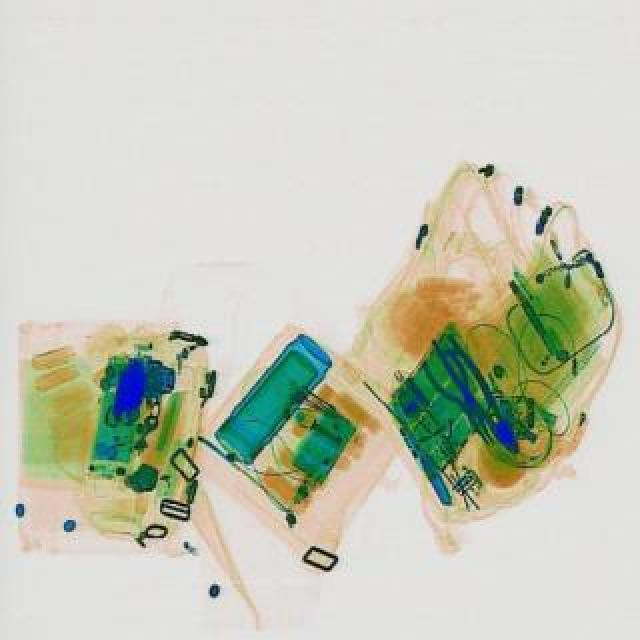wrench: (426, 326, 530, 460), (418, 342, 510, 454)
